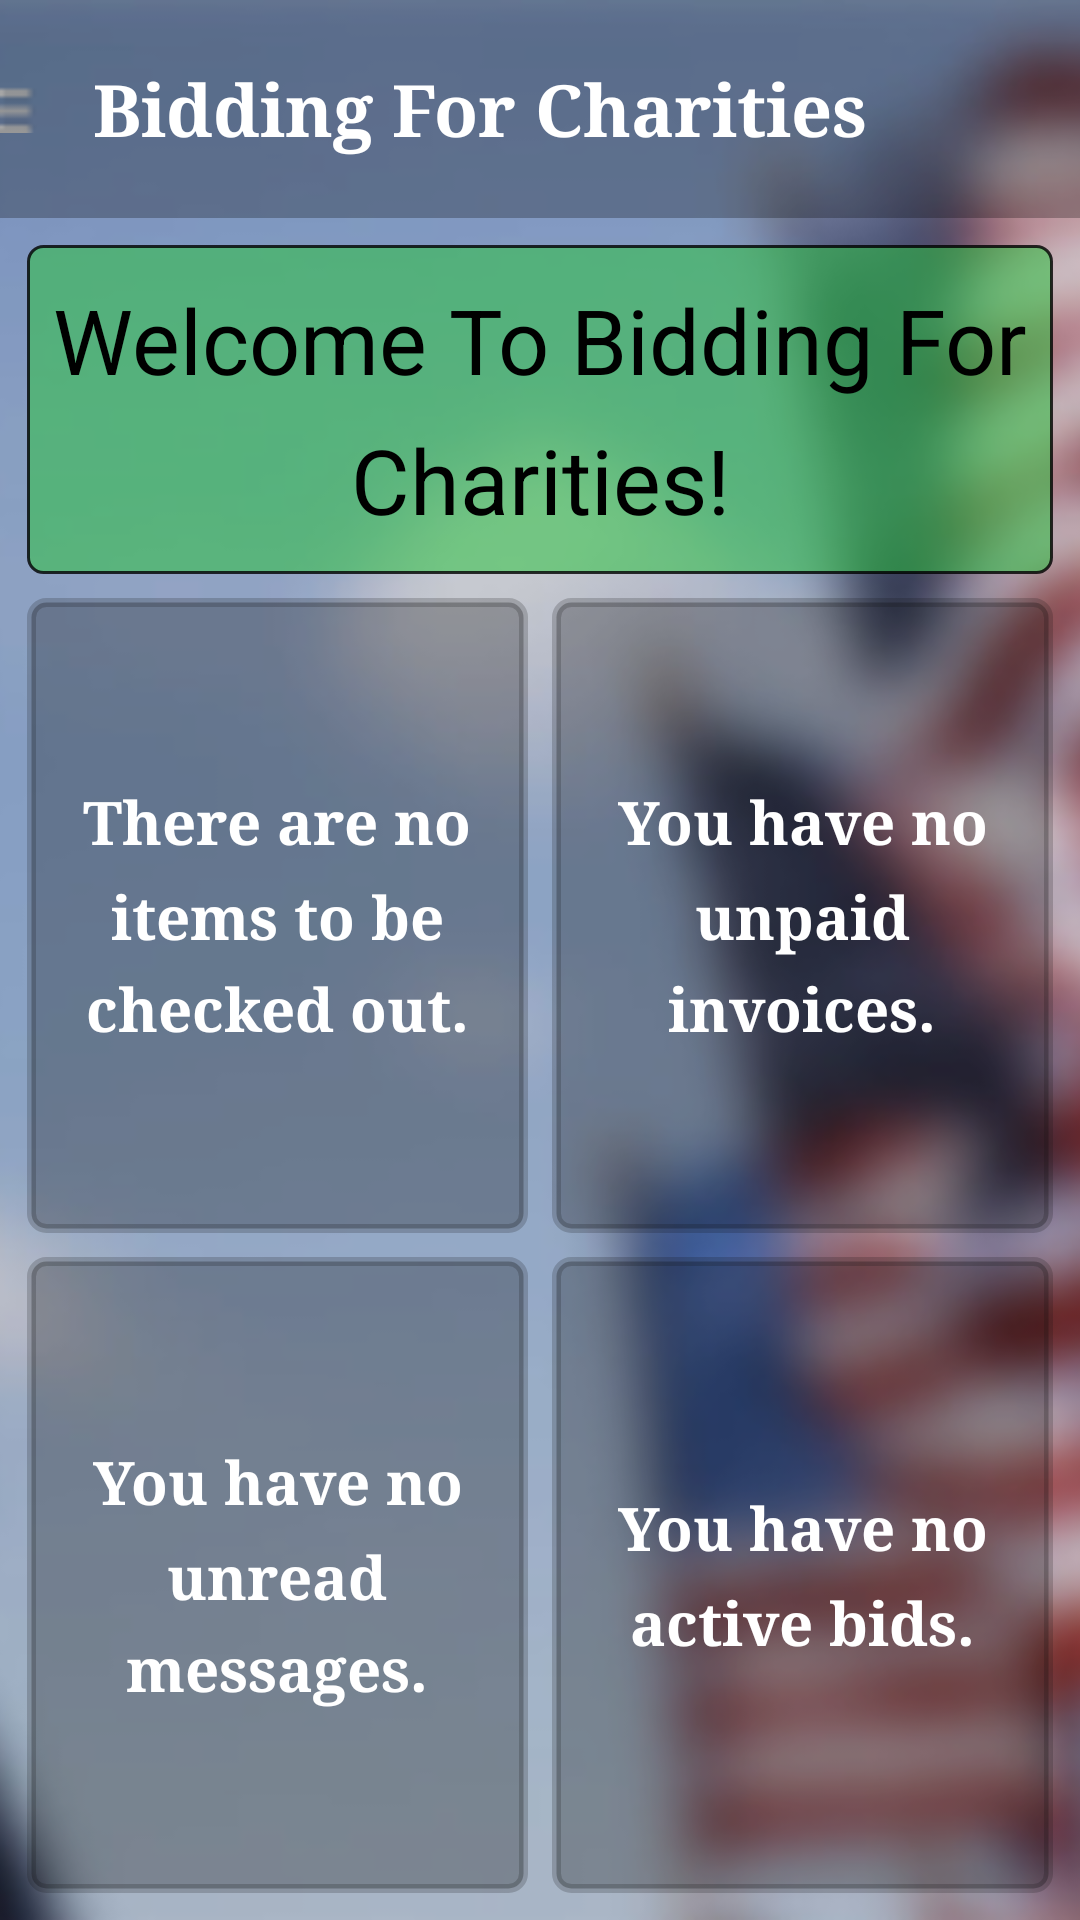

Named icons in this screenshot (1080*1920) and their bounding boxes, (x1, y1, x2, y2):
drawer: (0, 88, 31, 133)
